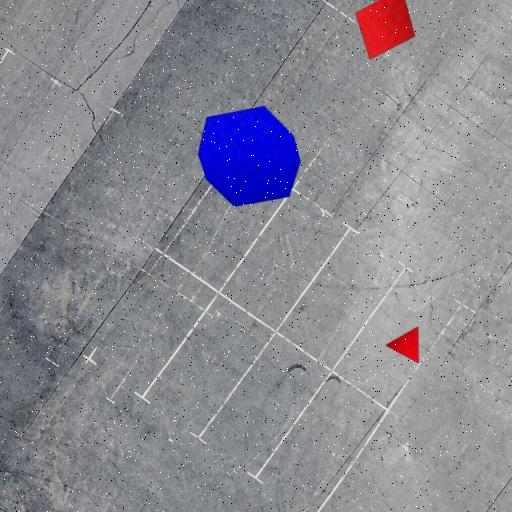RED_SQUARE: (354, 0, 416, 61)
